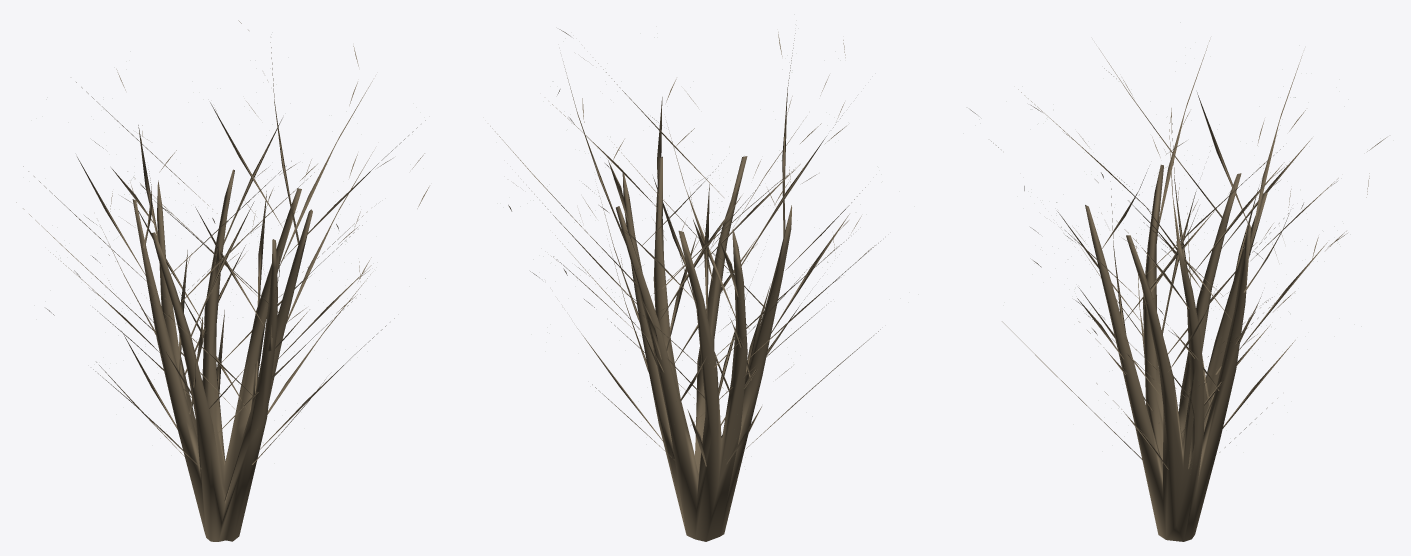
The model's file is Filaire_1_Niveau2.fbx.
The picture shows the model from 3 angles, left to right: view 1: azimuth 30°, elevation 25°; view 2: azimuth 150°, elevation 25°; view 3: azimuth 270°, elevation 25°; orthographic projection. The views are drawn at different scales.
Visible parts, largest first — view 1: Filaire_1_Niveau2; view 2: Filaire_1_Niveau2; view 3: Filaire_1_Niveau2.
Boxes of the visible parts, x1,y1,x2,y2 form: Filaire_1_Niveau2: (16,20,429,541); Filaire_1_Niveau2: (490,29,880,541); Filaire_1_Niveau2: (970,40,1386,541).
Size of the model in its own units: 171 by 195 by 167.
